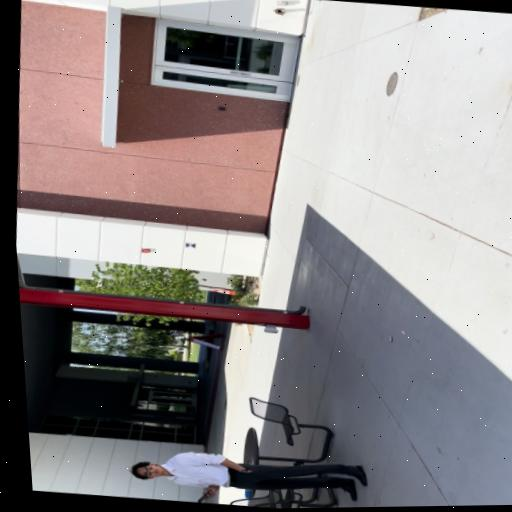target2: (185, 242, 196, 249)
